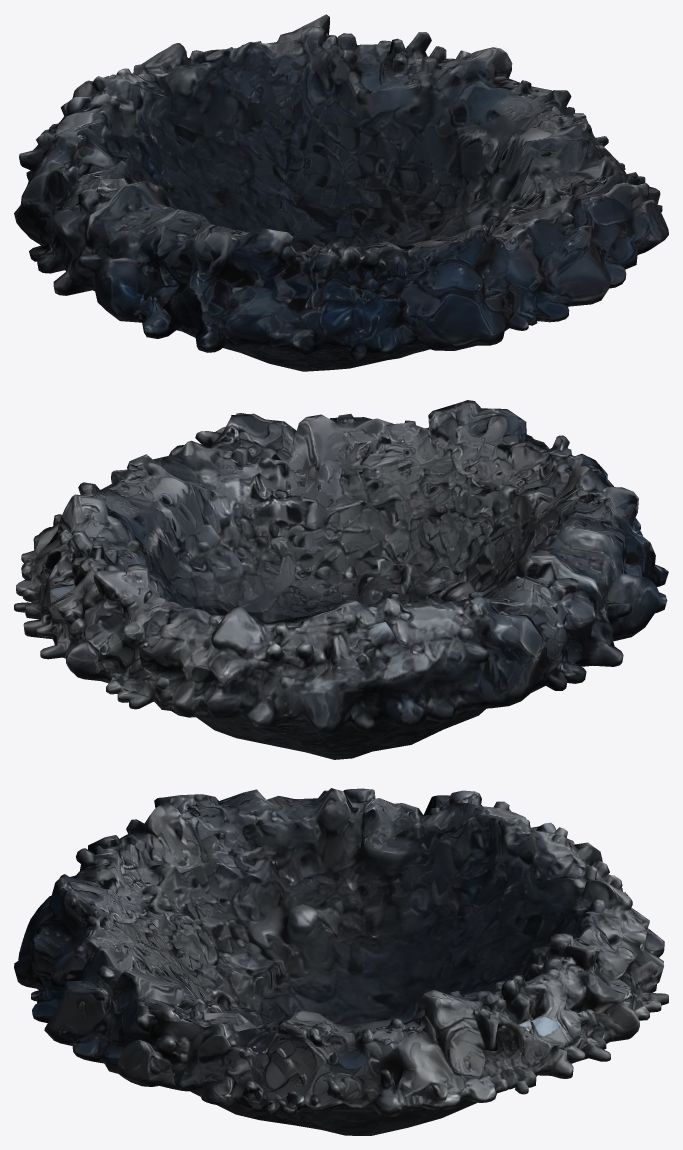
Rendered from landmark-crater-amphitheater.glb.
The picture shows the model from 3 angles, top to bottom: view 1: azimuth 30°, elevation 25°; view 2: azimuth 150°, elevation 25°; view 3: azimuth 270°, elevation 25°; orthographic projection.
Parts seen in each view (by area): view 1: landmark-crater-amphitheater; view 2: landmark-crater-amphitheater; view 3: landmark-crater-amphitheater.
Boxes of the visible parts, left/top/right/bottom form: landmark-crater-amphitheater: left=14, top=14, right=668, bottom=371; landmark-crater-amphitheater: left=14, top=400, right=668, bottom=759; landmark-crater-amphitheater: left=14, top=788, right=668, bottom=1135.
Size of the model in its own units: 0.979 by 0.3872 by 0.9995.
1 material, 1 textured.
